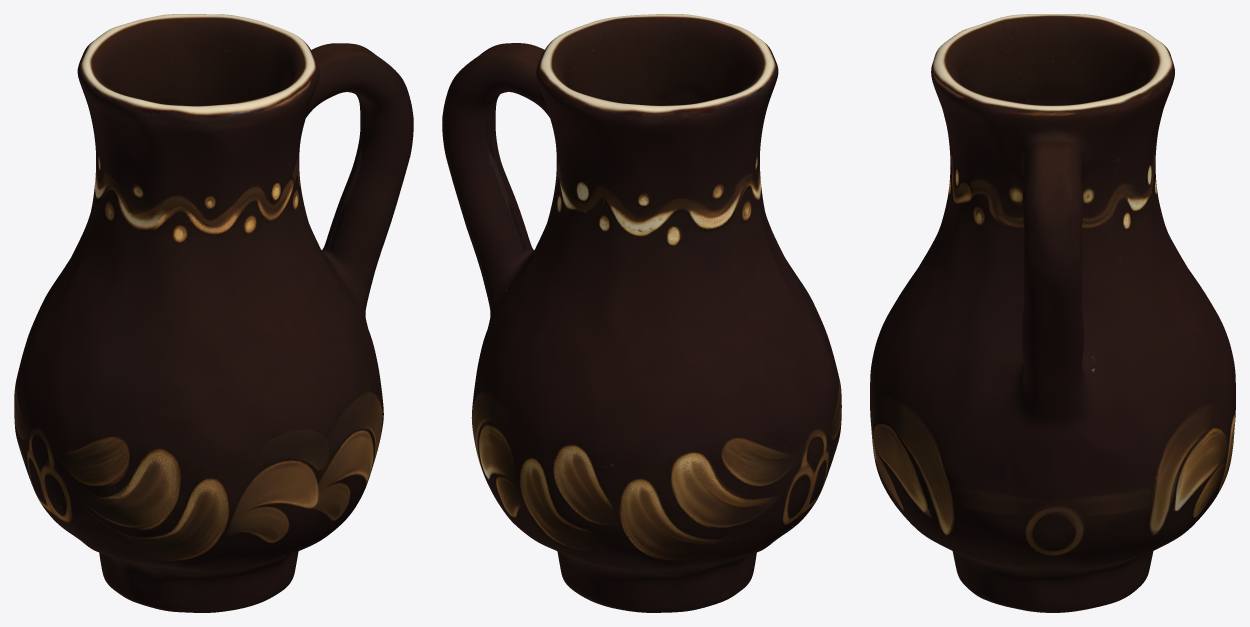
The model's file is kuvshin.glb.
The picture shows the model from 3 angles, left to right: view 1: azimuth 30°, elevation 25°; view 2: azimuth 150°, elevation 25°; view 3: azimuth 270°, elevation 25°; orthographic projection.
Size of the model in its own units: 1.43 by 1.9 by 1.22.
Materials: 1 (1 with a texture image).
